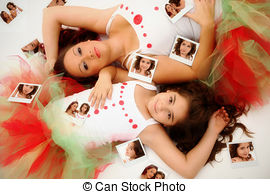face: (52, 37, 117, 78), (147, 88, 186, 133), (175, 39, 198, 58), (133, 55, 152, 76), (22, 38, 44, 55), (234, 140, 254, 158), (121, 141, 143, 156), (17, 78, 35, 95), (141, 162, 158, 178), (1, 3, 20, 16), (162, 3, 181, 13), (79, 102, 92, 116), (68, 101, 78, 114)
